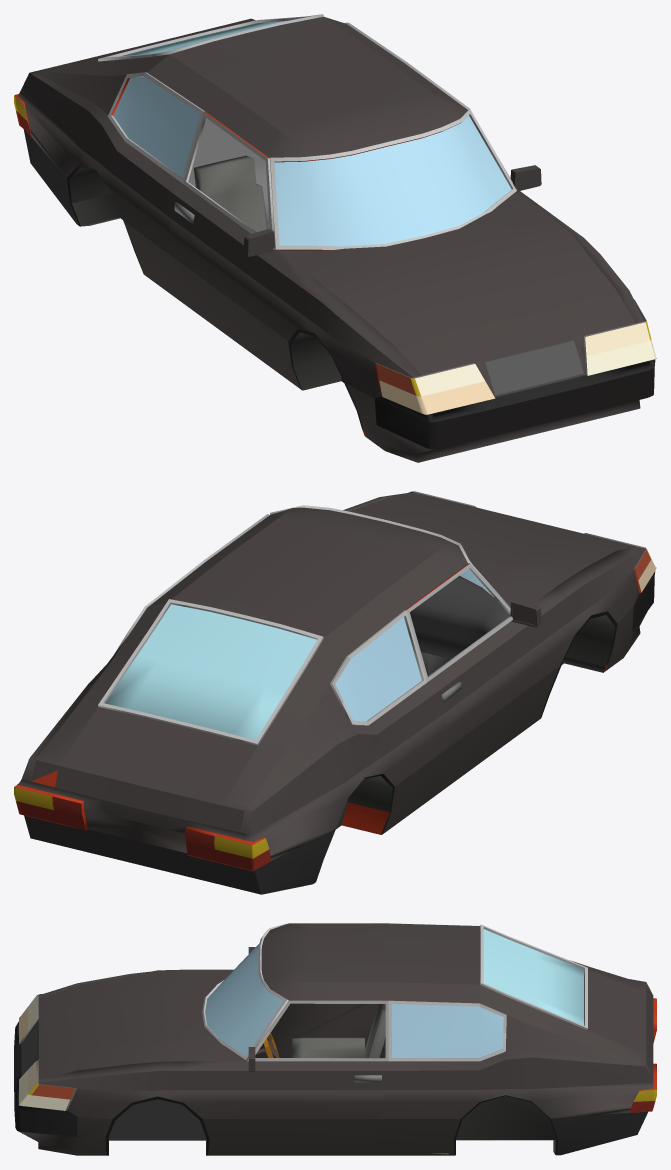
File: Turbo_Black.fbx
The picture shows the model from 3 angles, top to bottom: view 1: azimuth 30°, elevation 25°; view 2: azimuth 150°, elevation 25°; view 3: azimuth 270°, elevation 25°; orthographic projection. The views are drawn at different scales.
Parts seen in each view (by area): view 1: Chassi, Hood, Glass, Door_R, Seats, Trunk, Door_L, TrunkGlass; view 2: Chassi, Trunk, TrunkGlass, Door_R, Hood, Glass; view 3: Chassi, Hood, Door_L, Glass, TrunkGlass, Trunk, Door_R, Seats.
Part boxes in pixels (x1,y1,x2,y2): Chassi: (14, 16, 656, 462); Hood: (276, 192, 635, 375); Glass: (113, 76, 511, 246); Door_R: (169, 111, 278, 372); Seats: (194, 155, 267, 232); Trunk: (63, 14, 323, 64); Door_L: (405, 62, 541, 195); TrunkGlass: (120, 21, 286, 56); Chassi: (14, 491, 656, 894); Trunk: (55, 599, 323, 826); TrunkGlass: (105, 604, 316, 740); Door_R: (405, 563, 541, 791); Hood: (349, 494, 634, 607); Glass: (335, 560, 493, 721); Chassi: (14, 923, 656, 1155); Hood: (38, 969, 246, 1079); Door_L: (242, 1000, 388, 1155); Glass: (205, 944, 503, 1057); TrunkGlass: (483, 929, 583, 1025); Trunk: (480, 924, 652, 1068); Door_R: (248, 923, 377, 1057); Seats: (292, 1004, 385, 1057).
Bounding box in the file's own units: 2.14 × 1.42 × 5.18.
